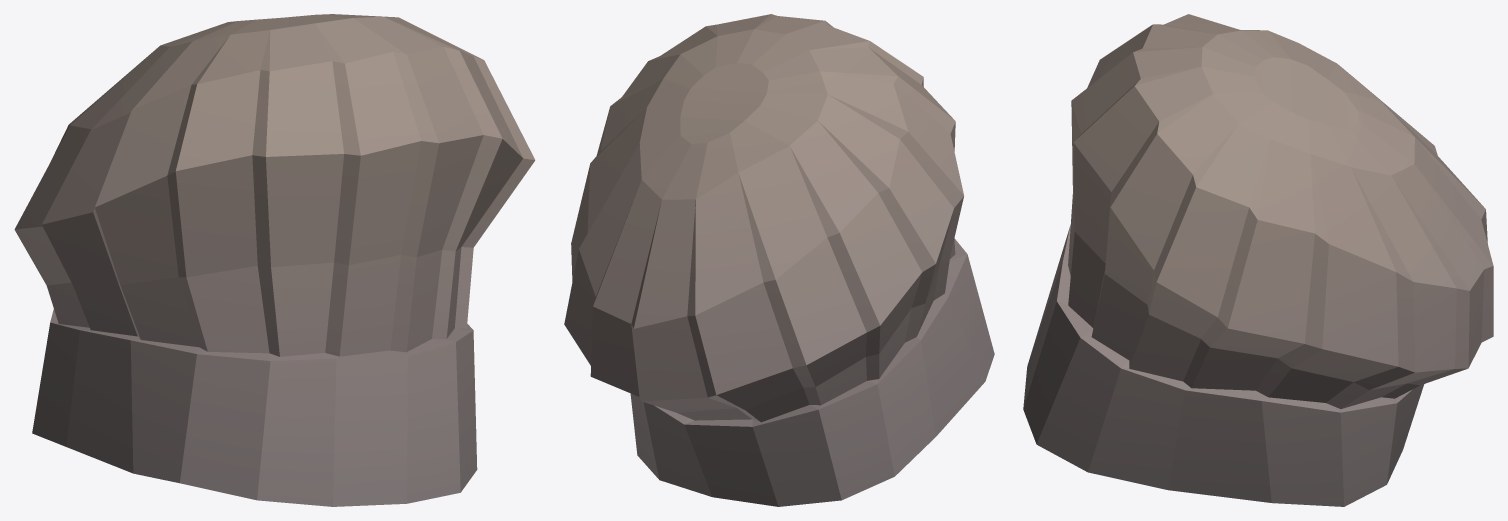
Rendered from SM_ChefsHat.fbx.
The picture shows the model from 3 angles, left to right: view 1: azimuth 30°, elevation 25°; view 2: azimuth 150°, elevation 25°; view 3: azimuth 270°, elevation 25°; orthographic projection. The views are drawn at different scales.
Parts seen in each view (by area): view 1: chefs hat; view 2: chefs hat; view 3: chefs hat.
Boxes of the visible parts, left/top/right/bottom form: chefs hat: left=14, top=14, right=535, bottom=506; chefs hat: left=564, top=14, right=994, bottom=506; chefs hat: left=1023, top=14, right=1493, bottom=506.
Size of the model in its own units: 29.53 by 29.68 by 30.31.
